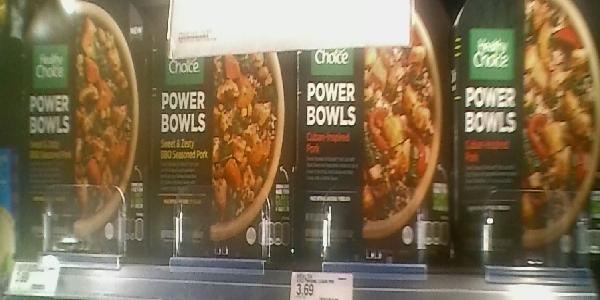pizza1: (291, 4, 452, 265), (454, 4, 600, 270), (152, 1, 289, 261), (20, 1, 150, 260)
